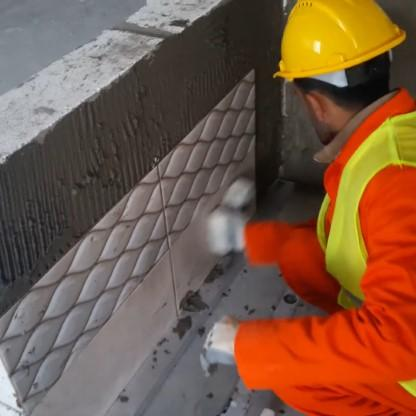helmet: (260, 12, 401, 164)
